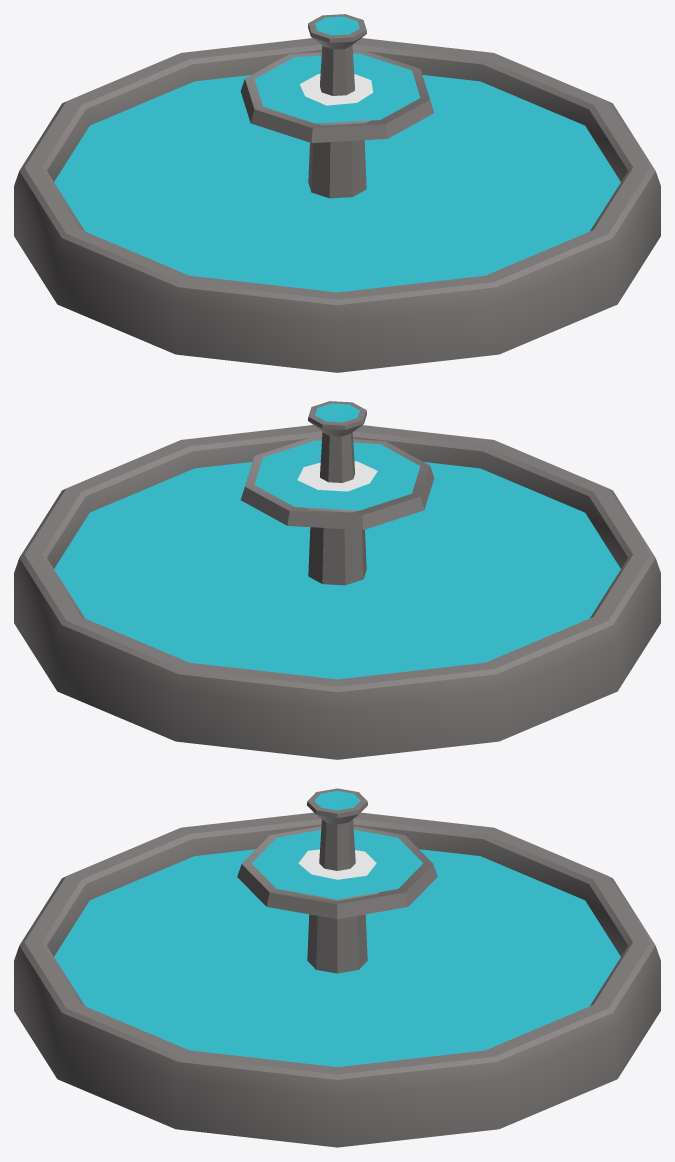
The model's file is fountain.fbx.
The picture shows the model from 3 angles, top to bottom: view 1: azimuth 30°, elevation 25°; view 2: azimuth 150°, elevation 25°; view 3: azimuth 270°, elevation 25°; orthographic projection.
Parts seen in each view (by area): view 1: fountain; view 2: fountain; view 3: fountain.
Part boxes in pixels (x1,y1,x2,y2): fountain: [14, 14, 660, 372]; fountain: [14, 401, 660, 759]; fountain: [14, 788, 660, 1147].
Bounding box in the file's own units: 5.98 × 2.14 × 5.98.
